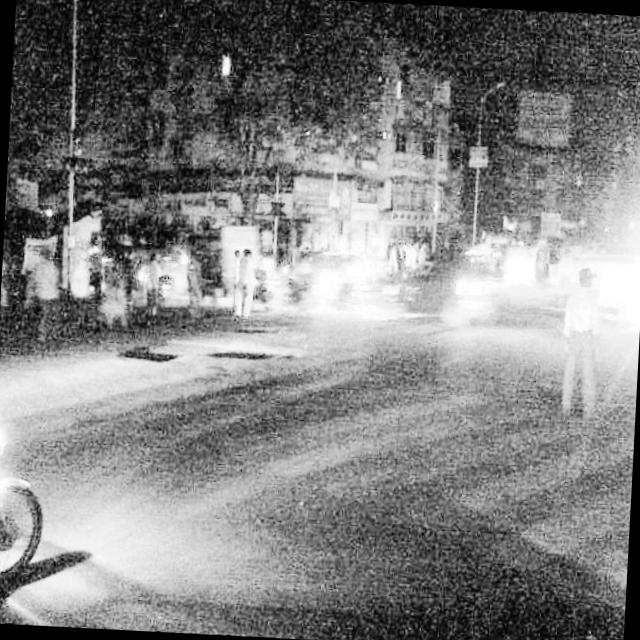Bicycle: (0, 376, 51, 625)
Car: (396, 239, 517, 334), (289, 232, 378, 323)
Person: (538, 242, 612, 444), (71, 219, 123, 342), (20, 224, 68, 350), (135, 218, 178, 339), (205, 230, 253, 326)
